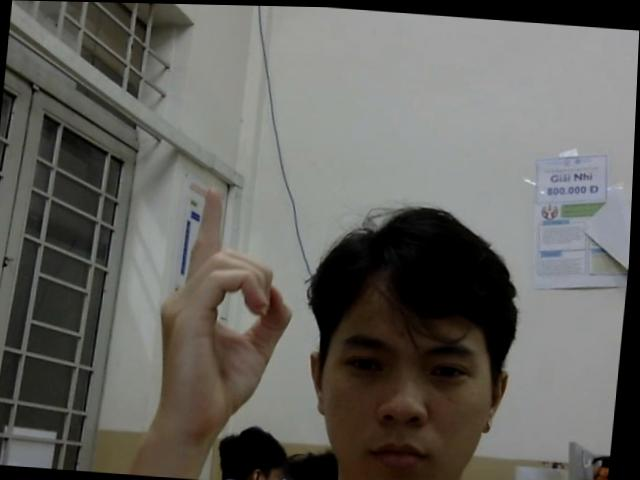D: (151, 183, 304, 437)
